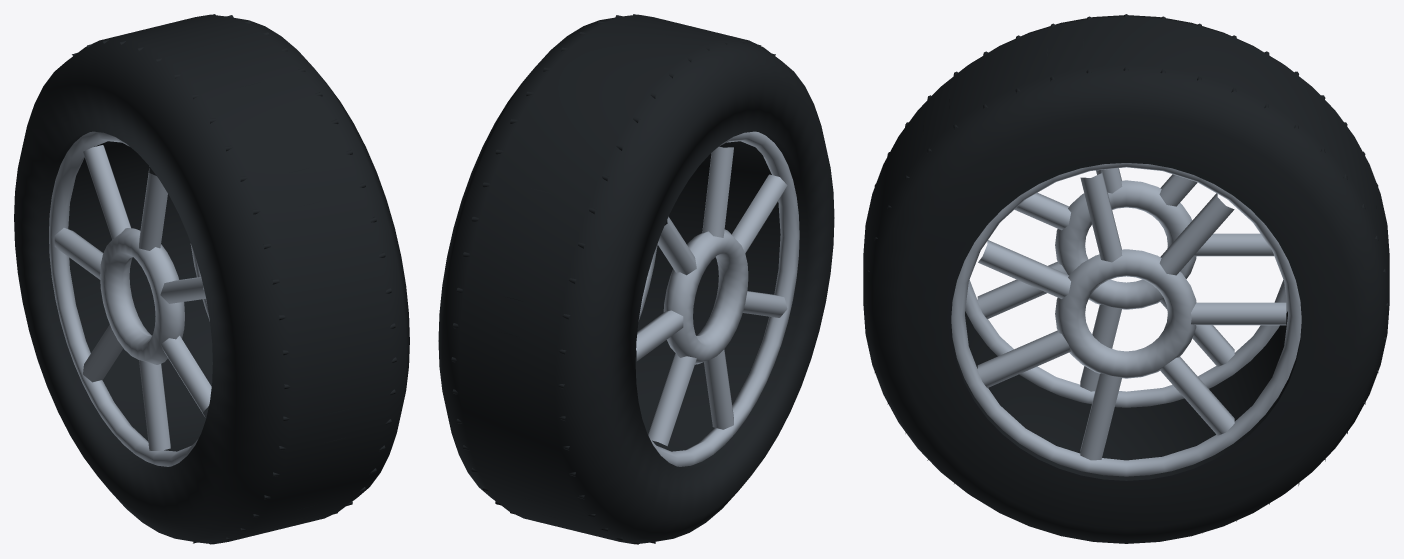
File: road_wheel.gltf
3 views of the same model, side by side, from view 1: azimuth 30°, elevation 25°; view 2: azimuth 150°, elevation 25°; view 3: azimuth 270°, elevation 25° (orthographic).
Visible parts, largest first — view 1: road_wheel; view 2: road_wheel; view 3: road_wheel.
Boxes of the visible parts, <box> form: road_wheel: <box>14,14,409,544</box>; road_wheel: <box>438,14,834,544</box>; road_wheel: <box>863,14,1389,543</box>.
Bounding box in the file's own units: 0.32 × 0.84 × 0.84.
